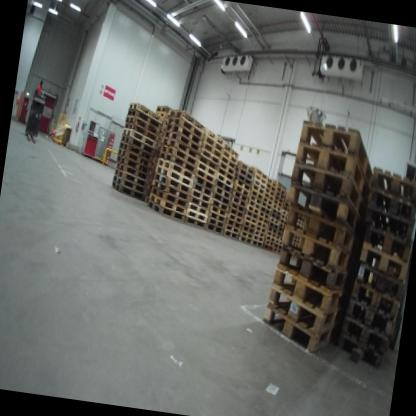pallet: (292, 115, 380, 192), (260, 274, 340, 337), (286, 158, 368, 217), (259, 296, 343, 352), (289, 146, 373, 201), (287, 183, 364, 233), (268, 263, 346, 312), (274, 249, 351, 298), (286, 204, 356, 254), (280, 226, 352, 272), (342, 291, 400, 341), (351, 262, 408, 310), (350, 243, 410, 284), (335, 329, 390, 373), (357, 223, 413, 265), (350, 280, 401, 325), (360, 204, 413, 244), (340, 312, 393, 352), (366, 166, 416, 207), (366, 190, 414, 225), (147, 192, 188, 216), (155, 156, 196, 180), (158, 150, 196, 175), (123, 119, 160, 144), (159, 143, 199, 166), (148, 185, 190, 206), (150, 180, 191, 201), (153, 166, 194, 187), (164, 124, 203, 146), (169, 110, 206, 133), (152, 171, 192, 192), (162, 129, 202, 150), (166, 117, 206, 138), (145, 202, 186, 222), (160, 138, 199, 159), (118, 132, 155, 154), (128, 102, 166, 123), (126, 107, 162, 129), (111, 173, 147, 195), (120, 128, 159, 148), (124, 114, 161, 135), (117, 147, 154, 168), (115, 154, 153, 174), (114, 162, 150, 183), (109, 179, 145, 200), (116, 141, 155, 160), (112, 168, 148, 188), (201, 133, 225, 155), (193, 156, 218, 177), (202, 126, 228, 146), (195, 151, 220, 170), (193, 171, 215, 192), (201, 140, 224, 160), (198, 146, 221, 165), (190, 186, 213, 204), (186, 199, 210, 216), (184, 213, 208, 230), (221, 141, 241, 159), (188, 194, 210, 210), (195, 167, 216, 183), (214, 177, 233, 194), (211, 191, 229, 208), (209, 203, 229, 218), (185, 209, 208, 222), (192, 183, 213, 197), (216, 167, 234, 183), (236, 170, 252, 188), (236, 159, 255, 174), (204, 220, 225, 233), (215, 172, 233, 187), (237, 167, 255, 182), (207, 214, 226, 228), (209, 197, 228, 211), (212, 184, 232, 197), (221, 149, 238, 164), (234, 179, 252, 193), (222, 221, 240, 235), (208, 210, 227, 223), (217, 162, 236, 175), (155, 103, 172, 117), (220, 156, 237, 170), (232, 182, 249, 196), (227, 205, 244, 219), (222, 227, 239, 241), (254, 168, 270, 182), (252, 170, 268, 184), (230, 194, 247, 207), (226, 215, 241, 229), (231, 191, 248, 203), (227, 212, 244, 223), (228, 202, 246, 212), (243, 207, 259, 217), (249, 189, 263, 200), (240, 223, 254, 234), (251, 183, 264, 194), (248, 194, 262, 204), (246, 203, 260, 213), (276, 179, 288, 190), (262, 240, 274, 251), (252, 180, 265, 190), (243, 214, 256, 224), (237, 235, 251, 244), (267, 178, 278, 189), (160, 110, 170, 122), (253, 229, 265, 239), (255, 225, 267, 235), (258, 216, 270, 226), (259, 206, 271, 216), (263, 190, 275, 200), (239, 230, 254, 238), (247, 199, 260, 208), (242, 221, 256, 229), (267, 220, 278, 230), (256, 221, 269, 229), (271, 207, 281, 217), (265, 187, 275, 197), (275, 189, 284, 200), (269, 216, 280, 225), (267, 226, 278, 235), (253, 234, 264, 243), (261, 201, 272, 210), (266, 183, 277, 192), (276, 186, 286, 195), (273, 199, 282, 209), (259, 211, 270, 219), (262, 197, 273, 205), (272, 246, 282, 254), (274, 196, 284, 204), (270, 212, 280, 220), (265, 233, 275, 241), (275, 242, 283, 251), (265, 232, 277, 238), (159, 119, 166, 129), (275, 234, 283, 242), (274, 238, 283, 245), (252, 240, 262, 246), (158, 128, 165, 136), (272, 205, 280, 212), (280, 217, 287, 224), (281, 216, 288, 223), (283, 206, 290, 213), (278, 227, 286, 233), (281, 209, 289, 215), (277, 231, 284, 237), (279, 224, 286, 230), (284, 201, 290, 205)
pallet_truck: (19, 89, 52, 150)
